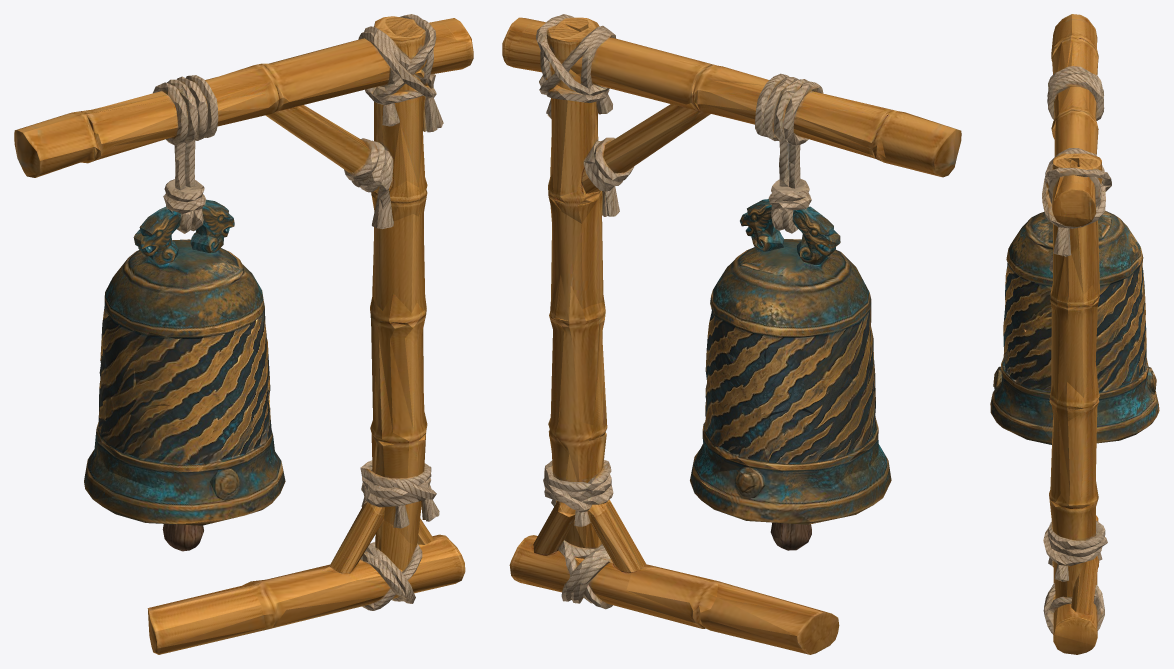
The model's file is Bell.fbx.
3 renders of one model, left to right at view 1: azimuth 30°, elevation 25°; view 2: azimuth 150°, elevation 25°; view 3: azimuth 270°, elevation 25°, orthographic. The views are drawn at different scales.
Parts seen in each view (by area): view 1: Bell, Swing; view 2: Bell, Swing; view 3: Bell, Swing.
Part boxes in pixels (x1=…): Bell: x1=14, y1=14, x2=473, y2=654; Swing: x1=84, y1=107, x2=363, y2=551; Bell: x1=502, y1=14, x2=961, y2=654; Swing: x1=607, y1=106, x2=891, y2=550; Bell: x1=1042, y1=14, x2=1111, y2=654; Swing: x1=990, y1=211, x2=1159, y2=444.
Size of the model in its own units: 1.77 by 2.2 by 0.6983.
1 material, 1 textured.
